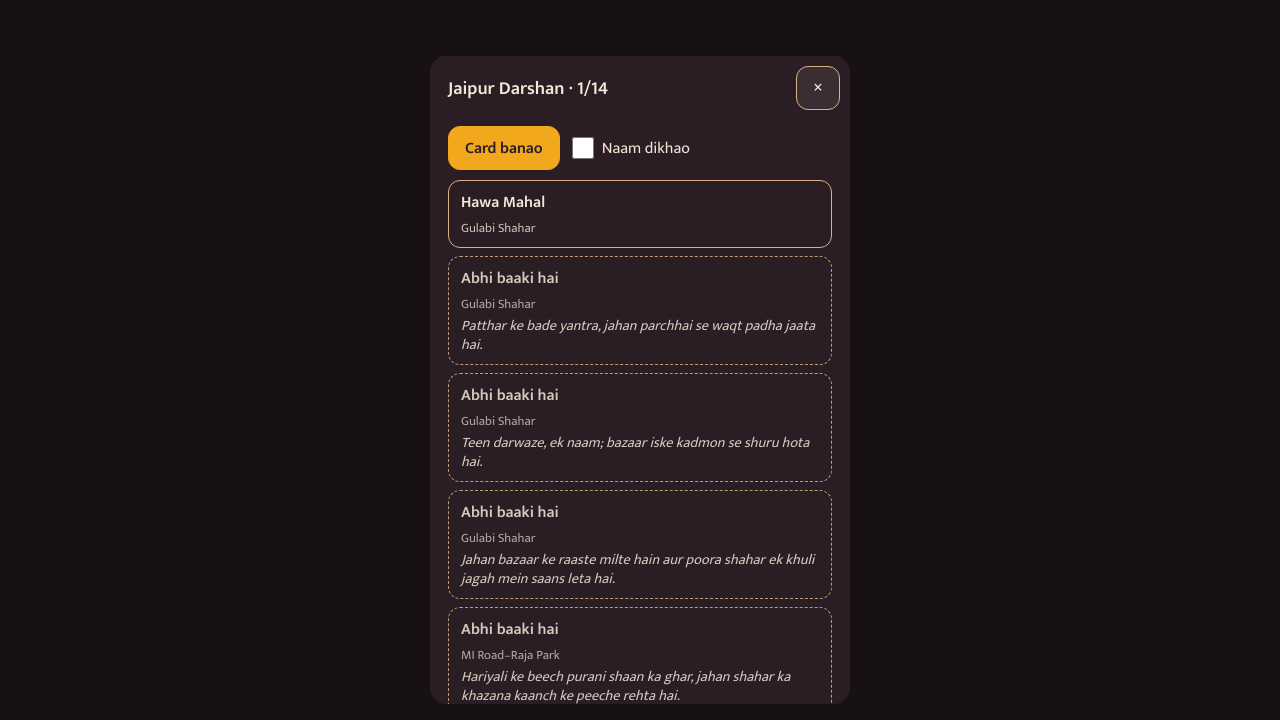
Test: "Card banao" makes the card of the stamps, with no name by default, and saves it
Expected: the checkbox labelled "Naam dikhao" is not checked, [572,137,594,159]
Expected: the label "Naam dikhao" is shown, [572,126,690,170]
Click the button with class "darshan-card-make".
click(504, 148)  # box [448,126,560,170]
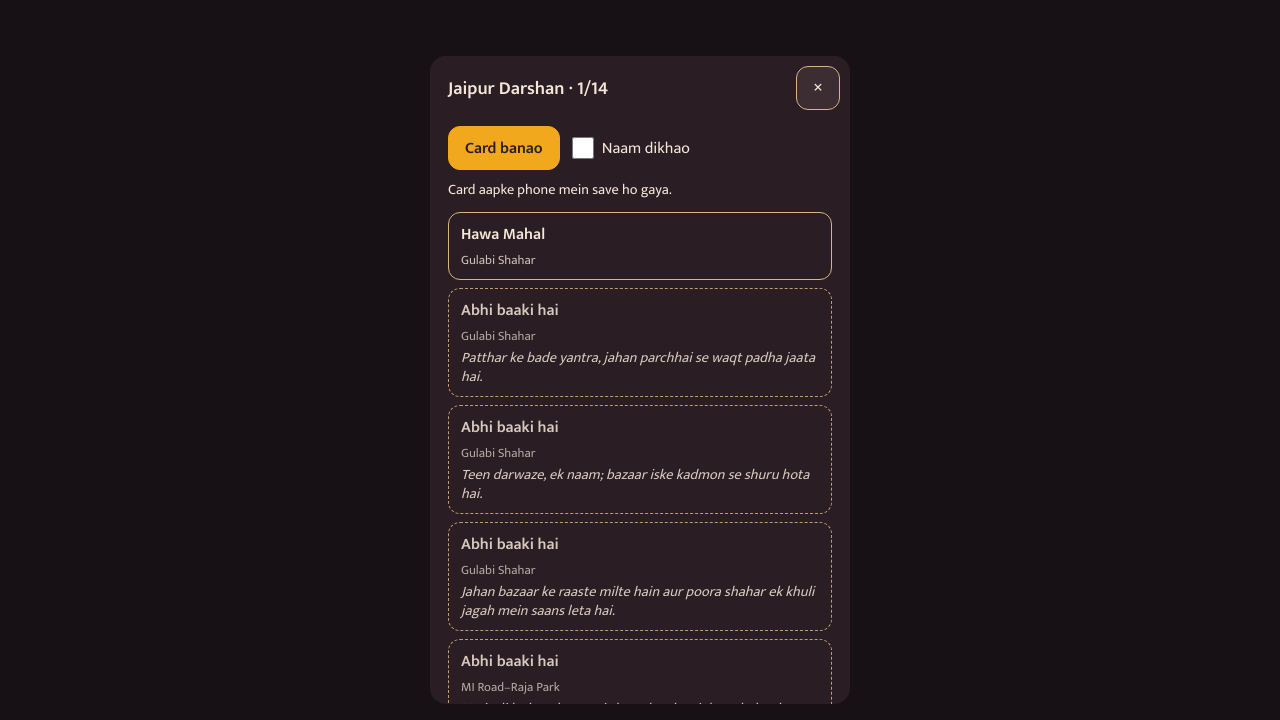
Result: the message with class "darshan-card-note" reads "Card aapke phone mein save ho gaya." at [448,178,672,202]
